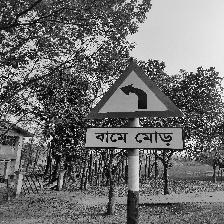Left-Turn: (83, 61, 187, 152)
